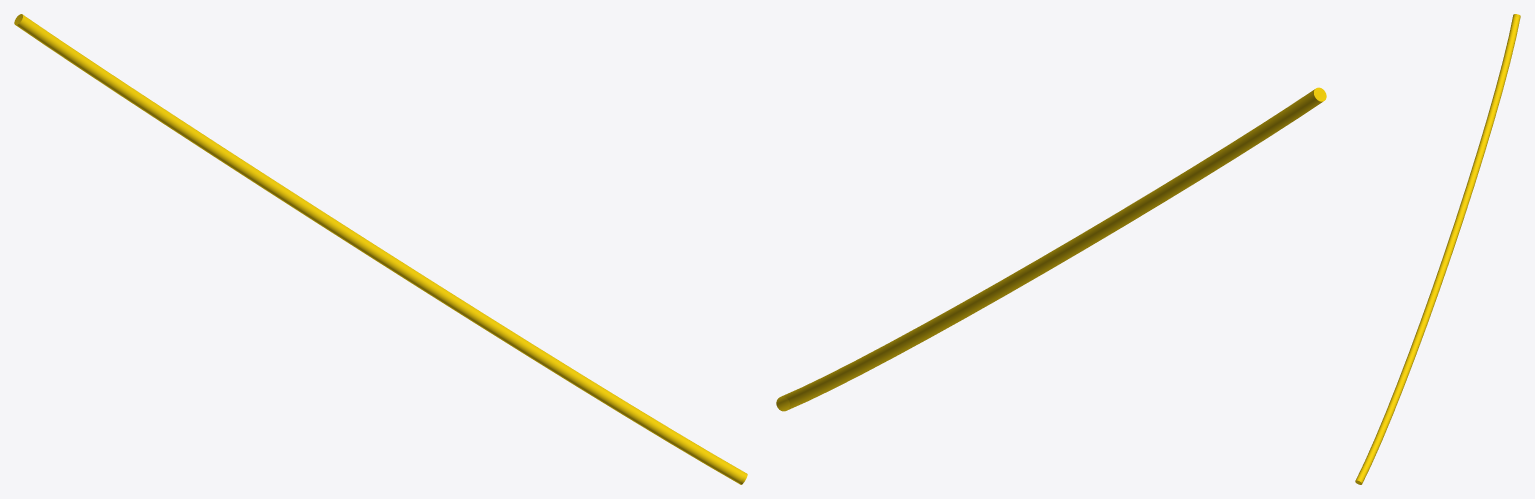
File: Event_420094457_track_18.fbx
The picture shows the model from 3 angles, left to right: view 1: azimuth 30°, elevation 25°; view 2: azimuth 150°, elevation 25°; view 3: azimuth 270°, elevation 25°; orthographic projection. The views are drawn at different scales.
Parts seen in each view (by area): view 1: Model; view 2: Model; view 3: Model.
Boxes of the visible parts, x1=… form: Model: x1=14, y1=14, x2=747, y2=484; Model: x1=776, y1=87, x2=1326, y2=411; Model: x1=1355, y1=14, x2=1520, y2=484.
Size of the model in its own units: 2.14 by 1.76 by 0.8691.
